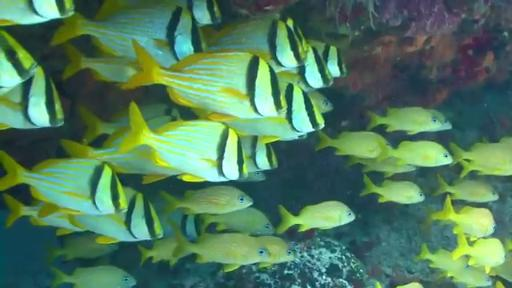Fish: (122, 42, 286, 120), (119, 103, 247, 181), (51, 2, 204, 59), (0, 152, 127, 216), (223, 84, 324, 141), (205, 18, 310, 69), (60, 140, 182, 183), (69, 188, 163, 243), (0, 67, 64, 129), (173, 233, 270, 271), (4, 194, 84, 235), (416, 244, 491, 287), (96, 0, 222, 25), (63, 44, 138, 82), (431, 196, 495, 238), (276, 201, 355, 233), (163, 186, 252, 214), (0, 30, 39, 91), (368, 107, 451, 134), (281, 48, 333, 90), (201, 207, 275, 235), (316, 132, 391, 159), (452, 234, 505, 272), (450, 144, 511, 177), (0, 0, 74, 26), (78, 106, 129, 143), (50, 233, 118, 260), (360, 175, 424, 203), (52, 266, 136, 287), (434, 175, 499, 202), (388, 141, 453, 167), (308, 40, 347, 77), (416, 244, 467, 271), (240, 136, 278, 172), (348, 157, 416, 177), (257, 236, 295, 267), (460, 155, 511, 178), (92, 36, 136, 61), (138, 237, 176, 264), (444, 266, 492, 287), (490, 252, 511, 281), (308, 91, 333, 113), (236, 172, 266, 182), (396, 283, 423, 287), (500, 137, 511, 145), (495, 281, 504, 287)
